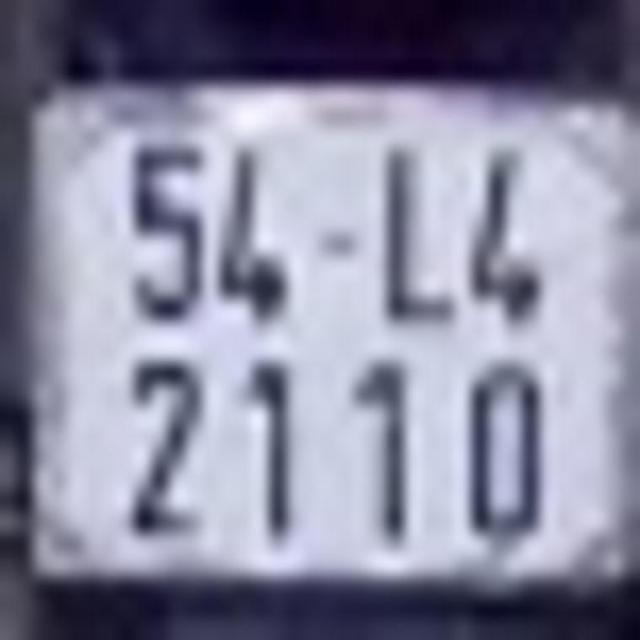0: (456, 353, 548, 545)
1: (240, 348, 300, 538), (370, 352, 418, 538)
2: (128, 348, 212, 538)
4: (466, 138, 546, 337), (211, 137, 293, 330)
5: (134, 132, 204, 326)
L: (374, 142, 462, 332)
